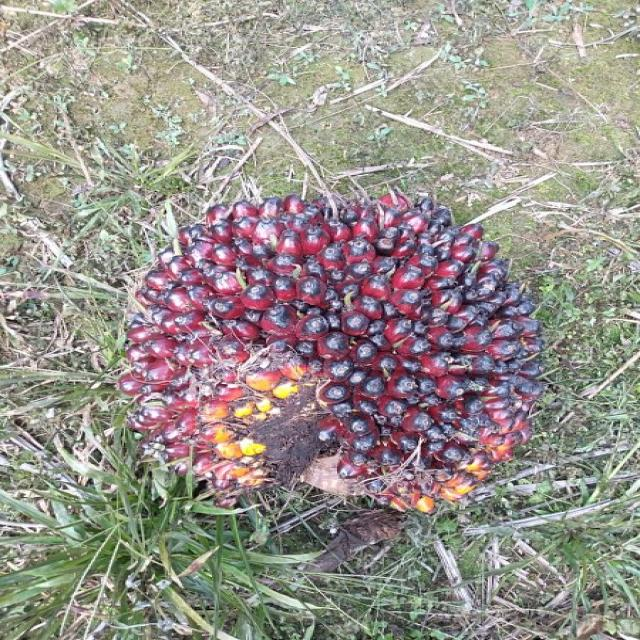fraksi 1: (63, 160, 588, 545)
